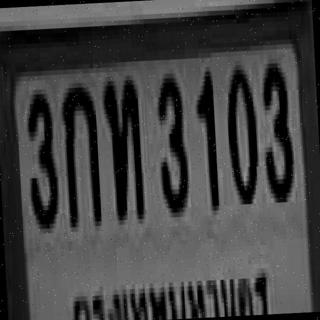A01: (60, 82, 100, 223)
A23: (103, 75, 143, 216)
N00: (223, 62, 258, 198)
N01: (194, 67, 218, 207)
N03: (154, 68, 188, 209), (259, 58, 292, 199), (24, 89, 58, 225)
